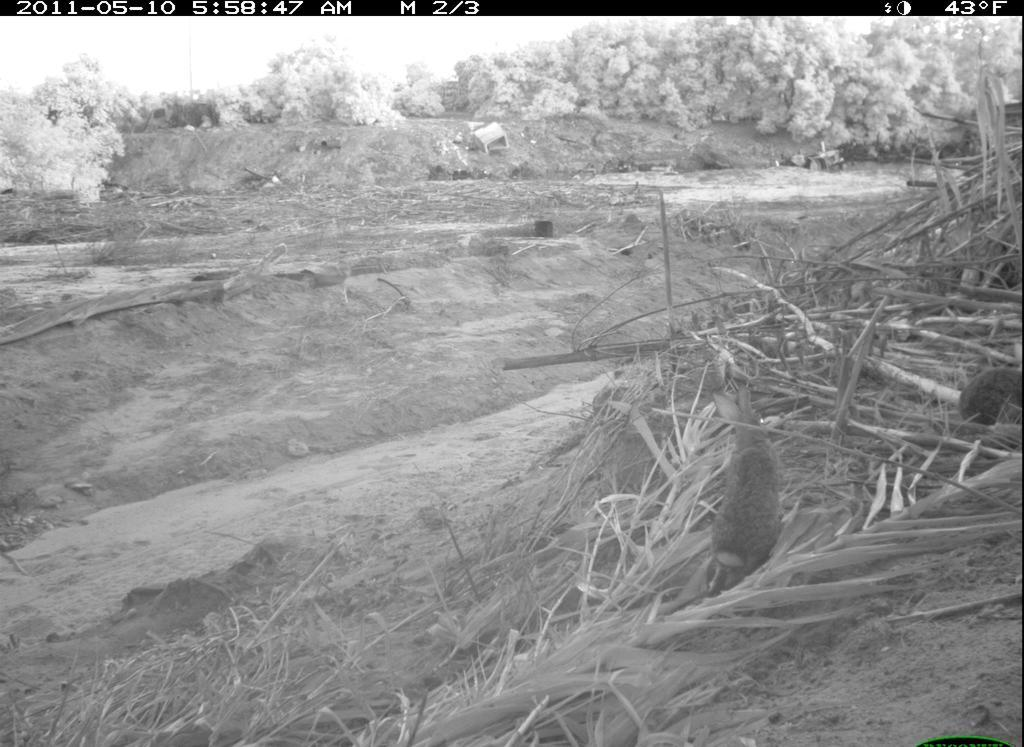rabbit: (696, 373, 788, 607)
